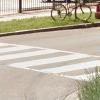Bicycle: (47, 1, 100, 25)
